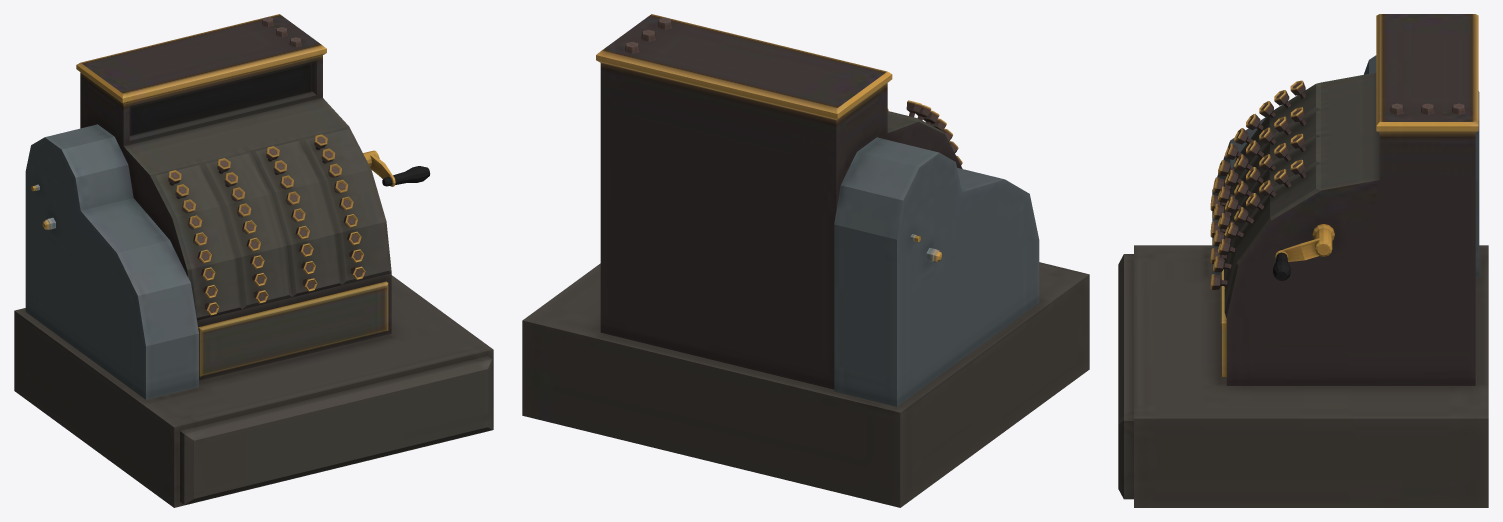
The model's file is cassa.glb.
The picture shows the model from 3 angles, left to right: view 1: azimuth 30°, elevation 25°; view 2: azimuth 150°, elevation 25°; view 3: azimuth 270°, elevation 25°; orthographic projection. The views are drawn at different scales.
Visible parts, largest first — view 1: CashRegister_mesh; view 2: CashRegister_mesh; view 3: CashRegister_mesh.
Boxes of the visible parts, <box> form: CashRegister_mesh: <box>14,14,493,507</box>; CashRegister_mesh: <box>522,14,1089,507</box>; CashRegister_mesh: <box>1118,14,1488,507</box>.
Size of the model in its own units: 12.88 by 12.32 by 11.53.
Materials: 1 (1 with a texture image).
